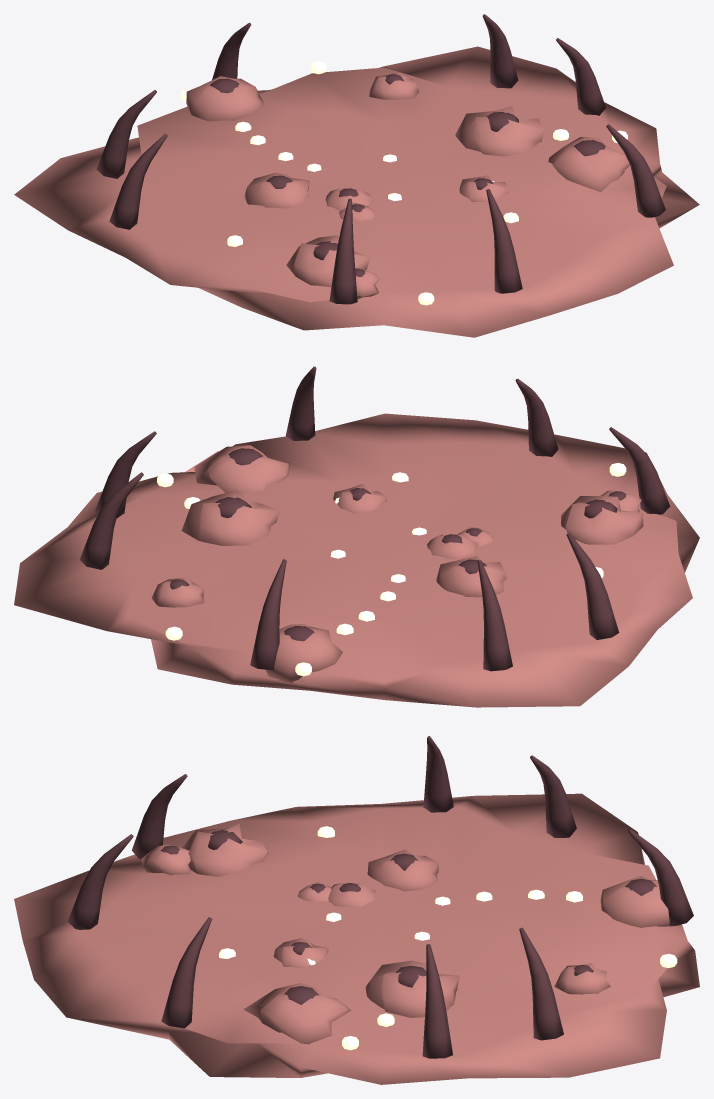
File: RavenousNest.fbx
3 views of the same model, one above another, from view 1: azimuth 30°, elevation 25°; view 2: azimuth 150°, elevation 25°; view 3: azimuth 270°, elevation 25° (orthographic). The views are drawn at different scales.
Visible parts, largest first — view 1: NestFlesh, NestDark, NestGlow; view 2: NestFlesh, NestDark, NestGlow; view 3: NestFlesh, NestDark, NestGlow.
Part boxes in pixels (box(x1,y1,x2,y2)): NestFlesh: box(14, 46, 699, 337); NestDark: box(96, 14, 665, 304); NestGlow: box(180, 61, 627, 305); NestFlesh: box(14, 413, 699, 707); NestDark: box(79, 366, 670, 671); NestGlow: box(157, 463, 626, 676); NestFlesh: box(14, 793, 699, 1084); NestDark: box(67, 736, 693, 1058); NestGlow: box(219, 826, 685, 1050).
Bounding box in the file's own units: 2.07 × 0.3941 × 2.06.
